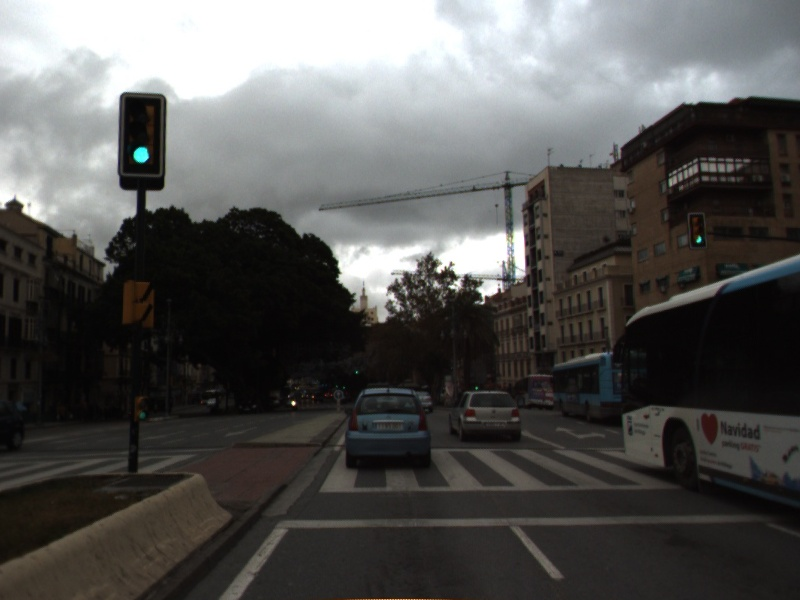STRAIGHT_RIGHT: (553, 424, 608, 442)
